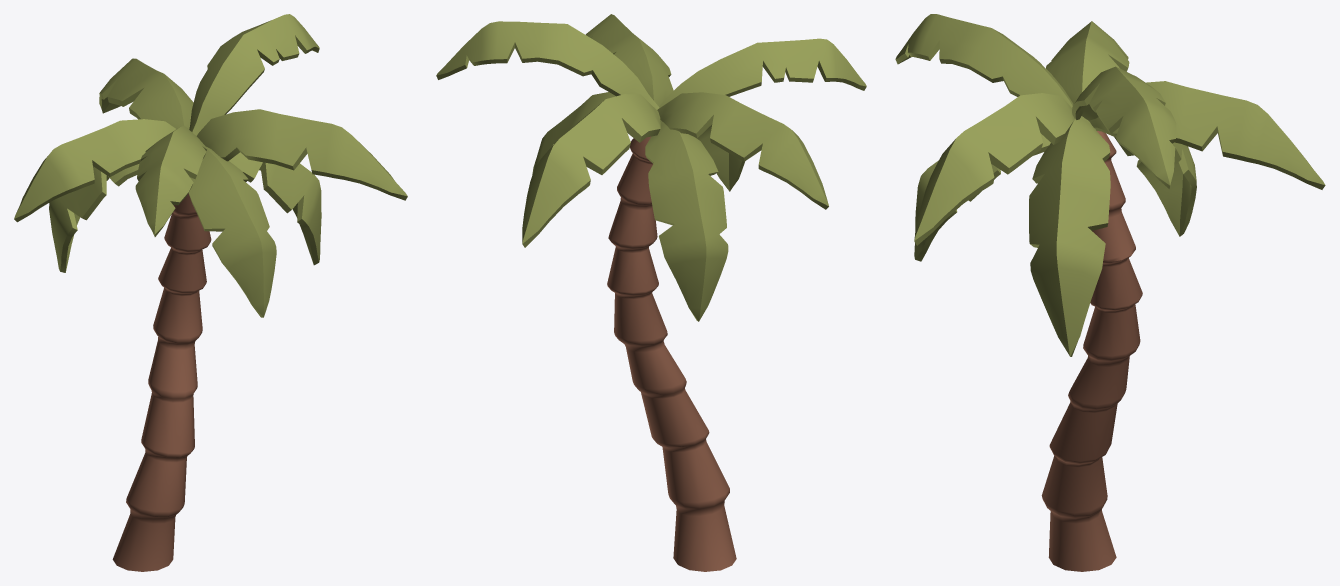
File: q-palm-tree-dsrraymucg.glb
3 renders of one model, left to right at view 1: azimuth 30°, elevation 25°; view 2: azimuth 150°, elevation 25°; view 3: azimuth 270°, elevation 25°, orthographic. The views are drawn at different scales.
Parts seen in each view (by area): view 1: Environment_PalmTree_1; view 2: Environment_PalmTree_1; view 3: Environment_PalmTree_1.
Boxes of the visible parts, <box> form: Environment_PalmTree_1: <box>14,14,407,571</box>; Environment_PalmTree_1: <box>436,14,866,571</box>; Environment_PalmTree_1: <box>895,14,1325,571</box>.
Bounding box in the file's own units: 2.61 × 3.59 × 2.52.
Materials: 1 (1 with a texture image).
